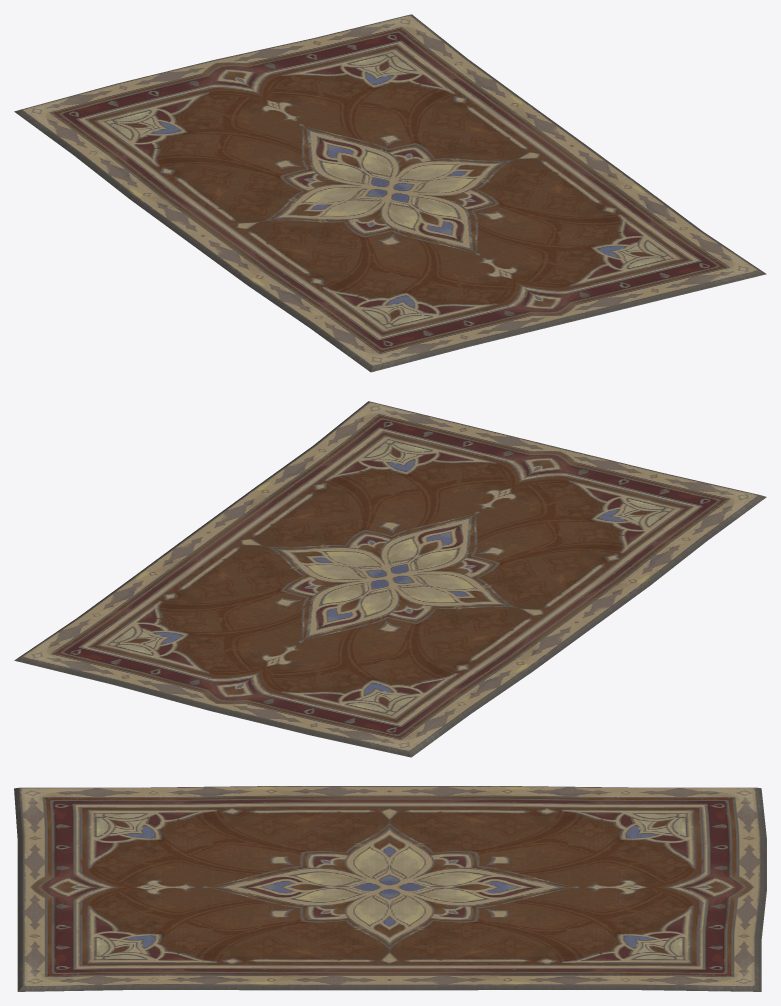
Rendered from Homeworld_Interior_Xm_Carpet_Prop_Wharf_03_Vo.fbx.
3 renders of one model, top to bottom at view 1: azimuth 30°, elevation 25°; view 2: azimuth 150°, elevation 25°; view 3: azimuth 270°, elevation 25°, orthographic. The views are drawn at different scales.
Parts seen in each view (by area): view 1: Homeworld_Interior_Xm_Carpet_Prop_Wharf_03_Vo; view 2: Homeworld_Interior_Xm_Carpet_Prop_Wharf_03_Vo; view 3: Homeworld_Interior_Xm_Carpet_Prop_Wharf_03_Vo.
Boxes of the visible parts, x1,y1,x2,y2 form: Homeworld_Interior_Xm_Carpet_Prop_Wharf_03_Vo: (14, 14, 766, 372); Homeworld_Interior_Xm_Carpet_Prop_Wharf_03_Vo: (14, 401, 766, 757); Homeworld_Interior_Xm_Carpet_Prop_Wharf_03_Vo: (14, 786, 766, 991).
Bounding box in the file's own units: 2.35 × 0.0154 × 3.64.
